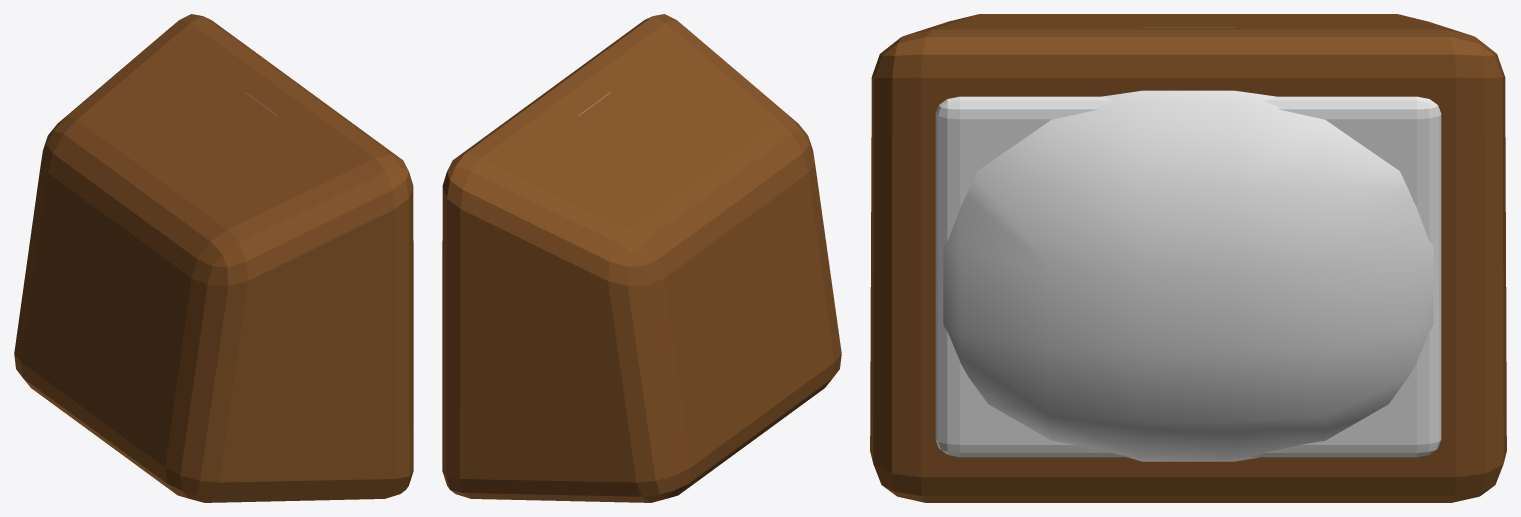
3 views of the same model, side by side, from view 1: azimuth 30°, elevation 25°; view 2: azimuth 150°, elevation 25°; view 3: azimuth 270°, elevation 25° (orthographic). The views are drawn at different scales.
Visible parts, largest first — view 1: Cube; view 2: Cube; view 3: Mball.002, Cube, Cube.002.
Boxes of the visible parts, bbox=[...] form: Cube: bbox=[14, 14, 413, 502]; Cube: bbox=[442, 14, 841, 502]; Mball.002: bbox=[943, 27, 1433, 461]; Cube: bbox=[870, 14, 1506, 502]; Cube.002: bbox=[935, 96, 1441, 457].
Size of the model in its own units: 162 by 200 by 246.
